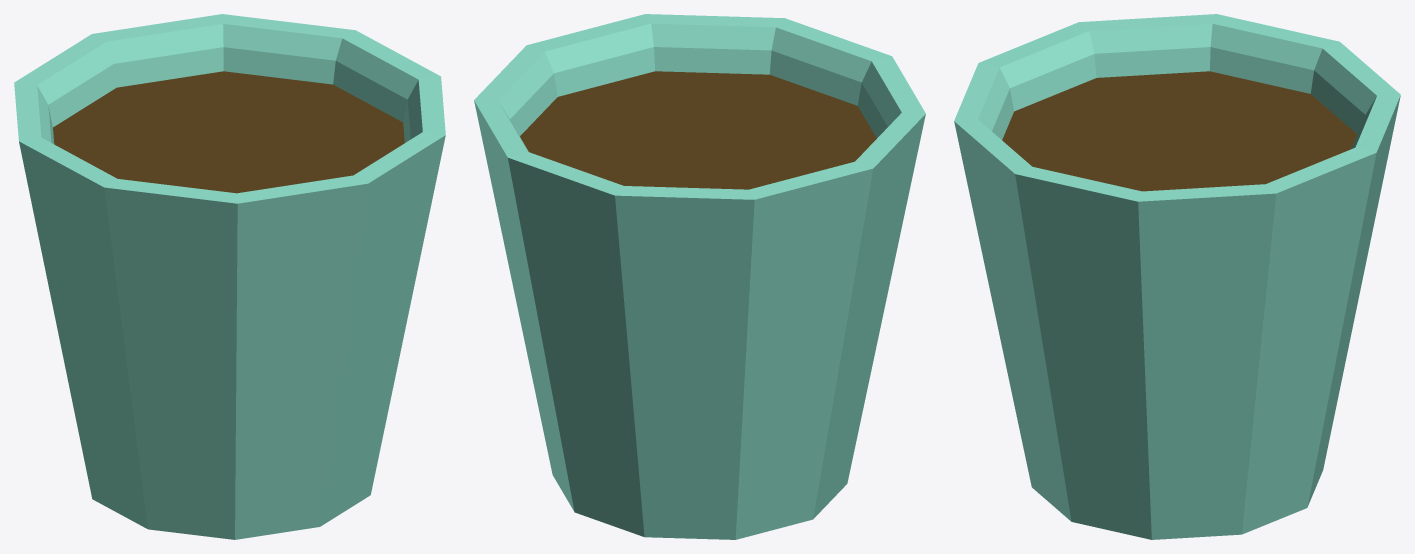
File: plant.gltf
The picture shows the model from 3 angles, left to right: view 1: azimuth 30°, elevation 25°; view 2: azimuth 150°, elevation 25°; view 3: azimuth 270°, elevation 25°; orthographic projection.
Visible parts, largest first — view 1: vaso; view 2: vaso; view 3: vaso.
Boxes of the visible parts, x1,y1,x2,y2 form: vaso: [14, 14, 445, 539]; vaso: [474, 14, 925, 539]; vaso: [954, 14, 1400, 539].
Size of the model in its own units: 0.2643 by 0.2437 by 0.2659.
